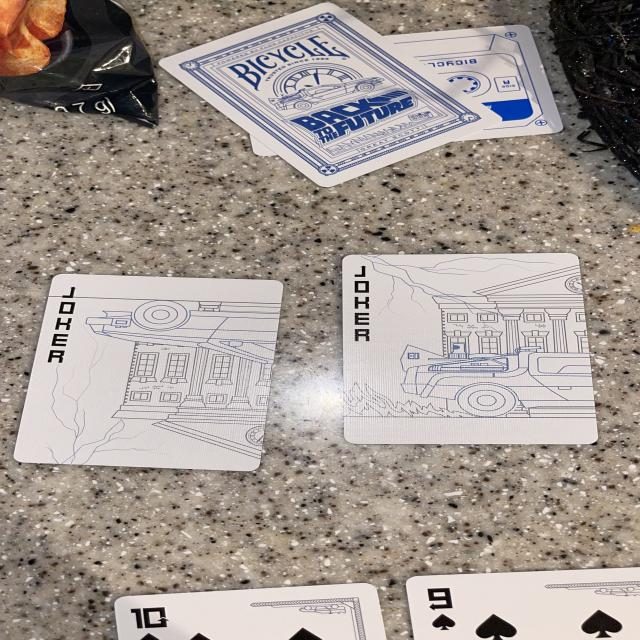10 of spades: (113, 584, 387, 640)
9 of spades: (407, 568, 640, 640)
Joker: (13, 275, 282, 471), (342, 254, 598, 444)
